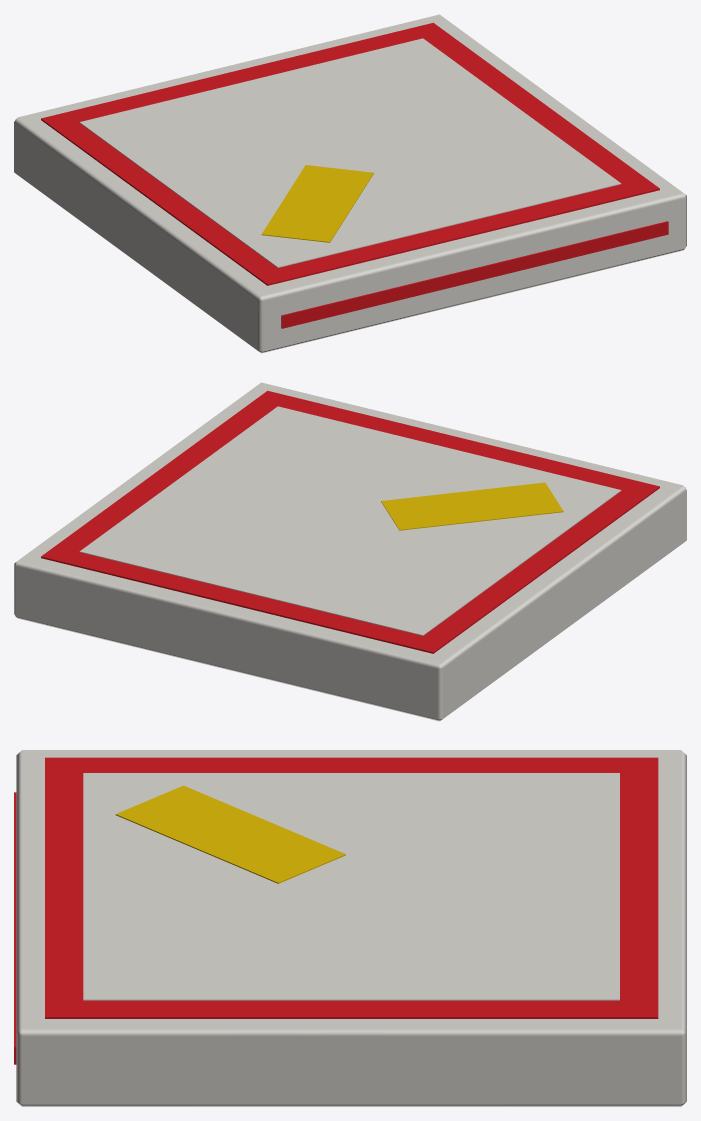
The model's file is pizza-box.glb.
3 renders of one model, top to bottom at view 1: azimuth 30°, elevation 25°; view 2: azimuth 150°, elevation 25°; view 3: azimuth 270°, elevation 25°, orthographic. The views are drawn at different scales.
Parts seen in each view (by area): view 1: BODY; view 2: BODY; view 3: BODY.
Boxes of the visible parts, <box> form: BODY: <box>14,14,686,353</box>; BODY: <box>14,382,686,721</box>; BODY: <box>14,750,686,1106</box>.
Bounding box in the file's own units: 0.35 × 0.0474 × 0.3512.
